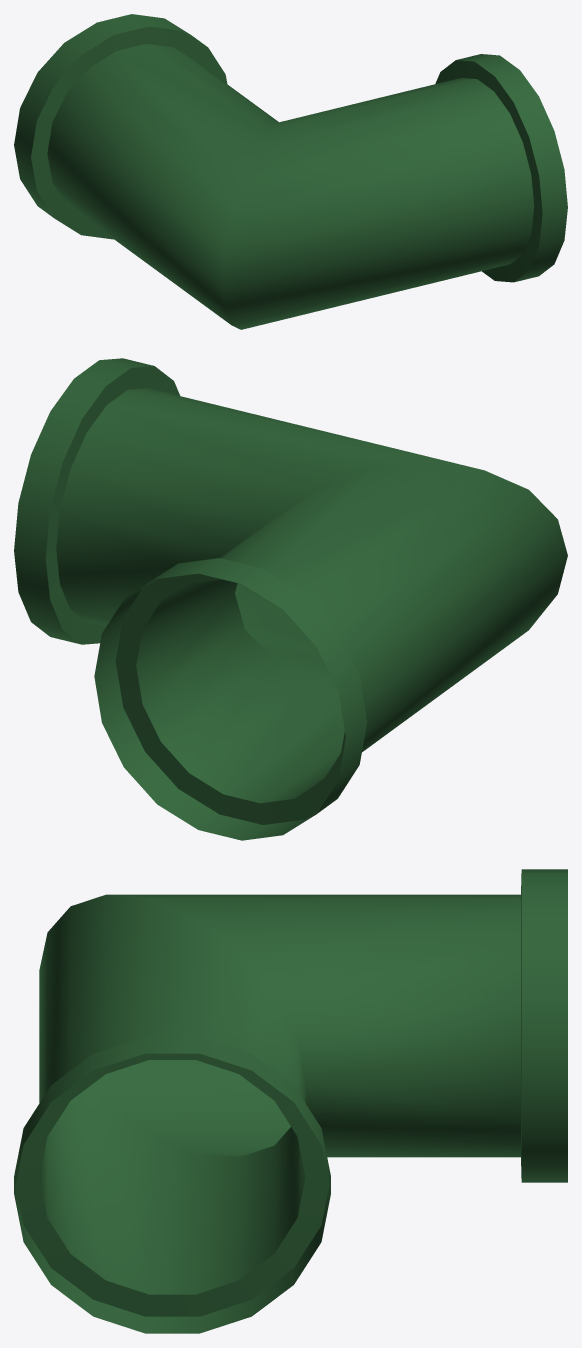
The model's file is curva.fbx.
3 views of the same model, one above another, from view 1: azimuth 30°, elevation 25°; view 2: azimuth 150°, elevation 25°; view 3: azimuth 270°, elevation 25° (orthographic). The views are drawn at different scales.
Visible parts, largest first — view 1: CURVA; view 2: CURVA; view 3: CURVA.
Part boxes in pixels (left/top/right/bottom): CURVA: left=14, top=14, right=567, bottom=329; CURVA: left=14, top=358, right=567, bottom=840; CURVA: left=14, top=869, right=567, bottom=1333.
Bounding box in the file's own units: 0.7002 × 0.3895 × 0.6988.
